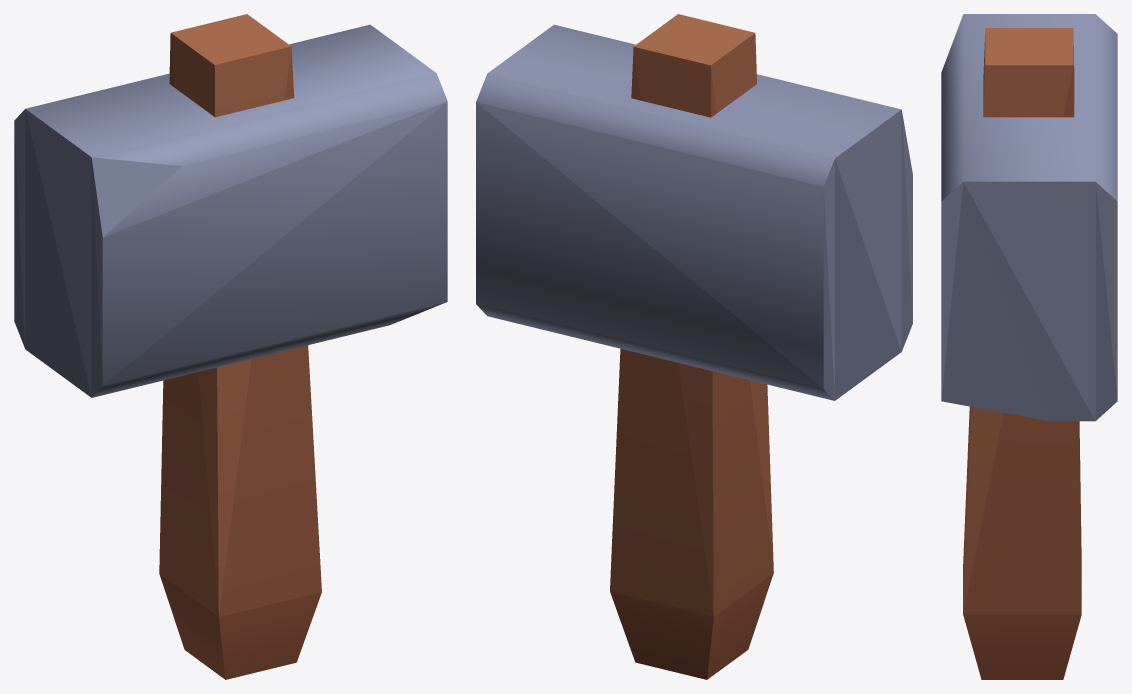
The model's file is survival_tool_hammer.glb.
3 views of the same model, side by side, from view 1: azimuth 30°, elevation 25°; view 2: azimuth 150°, elevation 25°; view 3: azimuth 270°, elevation 25° (orthographic).
Visible parts, largest first — view 1: survival_tool_hammer; view 2: survival_tool_hammer; view 3: survival_tool_hammer.
Boxes of the visible parts, x1,y1,x2,y2 form: survival_tool_hammer: (14,14,447,679); survival_tool_hammer: (476,14,912,679); survival_tool_hammer: (941,14,1117,679).
Size of the model in its own units: 0.09 by 0.1535 by 0.04.
